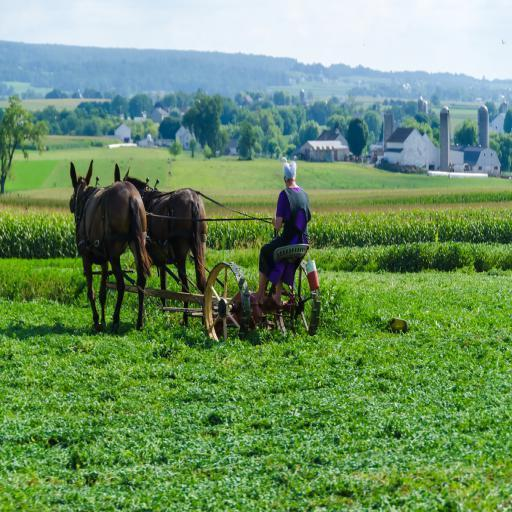horse: (114, 162, 208, 330), (70, 160, 153, 330)
